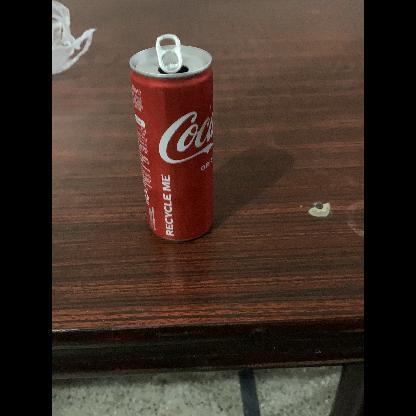Lid_Open: (152, 30, 198, 80)
Tin_Can: (124, 34, 222, 256)
